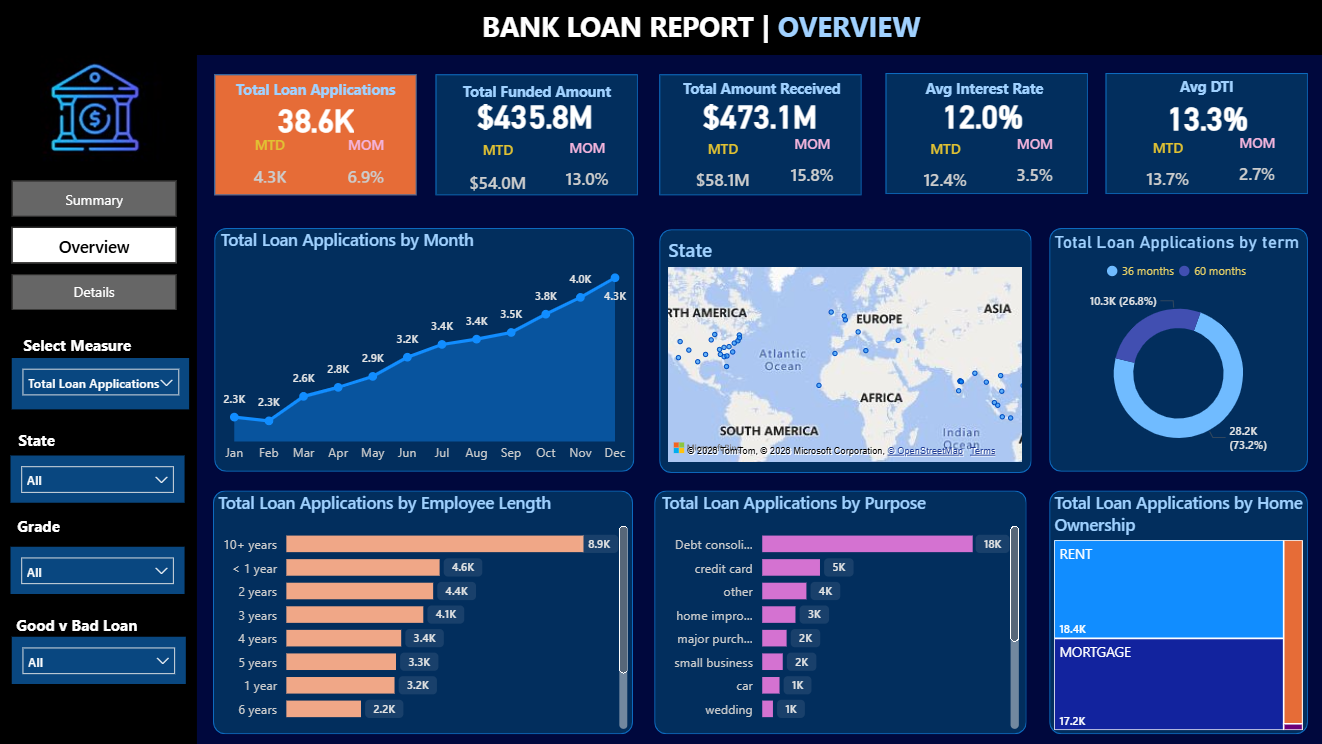

The page's visual inventory and layout, read from the dashboard file:
{"tool":"powerbi","page":{"name":"Overview","canvas":[1280,720],"ordinal":1},"visuals":[{"type":"shape","box":[0,0,1280.3,55],"z":0},{"type":"shape","box":[0,47.1,191.8,673.2],"z":1000},{"type":"textbox","box":[462.1,3.6,447.6,47.1],"z":2000},{"type":"shape","box":[208.7,73.6,195.4,117],"z":3000},{"type":"group","id":"g1","title":"Group 1","box":[208.7,73.6,195.4,117],"z":4000},{"type":"cardVisual","fields":{"Data":["Bank_loan_data.Total Funded Amount"]},"box":[433.3,74.8,170.1,77.2],"z":4000,"group":"g3"},{"type":"cardVisual","fields":{"Data":["Bank_loan_data.Total Amount Received"]},"box":[649.4,75.1,170.1,77.2],"z":4000,"group":"g2"},{"type":"cardVisual","fields":{"Data":["Bank_loan_data.Avg Interest Rate"]},"box":[864.5,75.1,170.1,77.2],"z":4000,"group":"g5"},{"type":"cardVisual","fields":{"Data":["Bank_loan_data.Avg DTI"]},"box":[1082,77.2,170.1,77.2],"z":4000,"group":"g4"},{"type":"cardVisual","fields":{"Data":["Bank_loan_data.Total Loan Applications"]},"box":[224.4,83.3,165.3,70],"z":4000,"group":"g1"},{"type":"textbox","box":[1068.9,71.2,195.4,36.2],"z":5000,"group":"g4"},{"type":"textbox","box":[638.8,72.4,195.4,36.2],"z":5000,"group":"g2"},{"type":"textbox","box":[853.9,72.4,195.4,36.2],"z":5000,"group":"g5"},{"type":"textbox","box":[208.7,73.6,195.4,36.2],"z":5000,"group":"g1"},{"type":"textbox","box":[422.3,75.5,195.4,36.2],"z":5000,"group":"g3"},{"type":"shape","box":[208.7,222,405.4,235.3],"z":5000},{"type":"textbox","box":[7.2,319.7,138.7,37.4],"z":5000,"group":"g9"},{"type":"textbox","box":[9.7,411.4,55.5,30.2],"z":5000,"group":"g6"},{"type":"textbox","box":[7.2,494.6,63.9,35],"z":5000,"group":"g7"},{"type":"textbox","box":[11,590,130.3,31.4],"z":5000,"group":"g8"},{"type":"shape","box":[638.2,73.6,195.4,117],"z":6000},{"type":"cardVisual","title":"MTD","fields":{"Data":["Bank_loan_data.MTD Loan Application"]},"box":[218.4,132.7,88.1,57.9],"z":6000,"group":"g1"},{"type":"cardVisual","title":"MTD","fields":{"Data":["Bank_loan_data.MTD Avg DTI"]},"box":[1071.1,134.7,115.8,57.9],"z":6000,"group":"g4"},{"type":"cardVisual","title":"MTD","fields":{"Data":["Bank_loan_data.MTD Total Amount Received"]},"box":[641,135.9,115.8,57.9],"z":6000,"group":"g2"},{"type":"cardVisual","title":"MTD","fields":{"Data":["Bank_loan_data.MTD Avg Int Rate"]},"box":[856.1,135.9,115.8,57.9],"z":6000,"group":"g5"},{"type":"cardVisual","title":"MTD","fields":{"Data":["Bank_loan_data.MTD Funded Amount"]},"box":[424.9,137,115.8,61.5],"z":6000,"group":"g3"},{"type":"shape","box":[422.3,73.6,195.4,117],"z":7000},{"type":"cardVisual","title":"MOM","fields":{"Data":["Bank_loan_data.MOM Avg DTI"]},"box":[1166.6,130.3,97.7,57.9],"z":7000,"group":"g4"},{"type":"cardVisual","title":"MOM","fields":{"Data":["Bank_loan_data.MOM Total Amount Received"]},"box":[736.5,131.5,97.7,57.9],"z":7000,"group":"g2"},{"type":"cardVisual","title":"MOM","fields":{"Data":["Bank_loan_data.MOM Avg Int Rate"]},"box":[951.6,131.5,97.7,57.9],"z":7000,"group":"g5"},{"type":"cardVisual","title":"MOM","fields":{"Data":["Bank_loan_data.MOM Loan Applications"]},"box":[306.4,132.7,97.7,57.9],"z":7000,"group":"g1"},{"type":"cardVisual","title":"MOM","fields":{"Data":["Bank_loan_data.MOM Total Funded Amount"]},"box":[520,134.6,97.7,57.9],"z":7000,"group":"g3"},{"type":"group","id":"g2","title":"Group 1","box":[638.8,72.4,195.4,121.9],"z":8000},{"type":"group","id":"g3","title":"Group 1","box":[422.3,74.8,195.4,124.3],"z":9000},{"type":"shape","box":[856.6,72.4,195.4,117],"z":10000},{"type":"shape","box":[1068.9,72.4,195.4,117],"z":11000},{"type":"group","id":"g4","title":"Group 1","box":[1068.9,71.2,195.4,121.9],"z":12000},{"type":"group","id":"g5","title":"Group 1","box":[853.9,72.4,195.4,121.9],"z":13000},{"type":"shape","box":[0,47.1,191.8,673.2],"z":14000},{"type":"slicer","fields":{"Values":["Bank_loan_data.address_state"]},"box":[12.1,441.6,167.7,45.8],"z":15000},{"type":"group","id":"g6","title":"Group 1","box":[9.7,411.4,55.5,30.2],"z":16000},{"type":"slicer","fields":{"Values":["Bank_loan_data.grade"]},"box":[12.1,529.6,167.7,45.8],"z":17000},{"type":"group","id":"g7","title":"Group 1","box":[7.2,494.6,63.9,35],"z":18000},{"type":"slicer","fields":{"Values":["Bank_loan_data.Good v Bad Loan"]},"box":[13.3,616.5,167.7,45.8],"z":19000},{"type":"group","id":"g8","title":"Group 1","box":[11,590,130.3,31.4],"z":20000},{"type":"areaChart","fields":{"Y":["Bank_loan_data.Total Loan Applications"],"Category":["Date Table.Month"]},"box":[209.9,222,404.2,235.3],"z":21000},{"type":"slicer","fields":{"Values":["Select Measure.Select Measure"]},"box":[13.3,347.5,171.3,49.5],"z":22000},{"type":"group","id":"g9","title":"Group 1","box":[7.2,319.7,138.7,37.4],"z":23000},{"type":"shape","box":[638.2,223.2,359.5,235.3],"z":24000},{"type":"map","title":"State","fields":{"Category":["Bank_loan_data.address_state"]},"box":[641.8,230.4,351.1,223.2],"z":25000},{"type":"shape","box":[1014.6,222,249.7,235.3],"z":26000},{"type":"donutChart","fields":{"Y":["Bank_loan_data.Total Loan Applications"],"Category":["Bank_loan_data.term"]},"box":[1014.6,225.6,249.7,226.8],"z":27000},{"type":"shape","box":[207.5,475.3,405.4,235.3],"z":28000},{"type":"barChart","fields":{"Y":["Bank_loan_data.Total Loan Applications"],"Category":["Bank_loan_data.emp_length"]},"box":[207.5,475.3,405.4,235.3],"z":29000},{"type":"shape","box":[633.4,475.3,359.5,235.3],"z":30000},{"type":"barChart","fields":{"Y":["Bank_loan_data.Total Loan Applications"],"Category":["Bank_loan_data.purpose"]},"box":[635.8,475.3,354.7,235.3],"z":31000},{"type":"shape","box":[1014.6,475.3,249.7,235.3],"z":32000},{"type":"treemap","fields":{"Values":["Bank_loan_data.Total Loan Applications"],"Group":["Bank_loan_data.home_ownership"]},"box":[1014.6,475.3,249.7,236.5],"z":33000},{"type":"pageNavigator","box":[13.3,176.1,159.3,126.7],"z":34000},{"type":"image","box":[22.9,55.5,156.8,102.5],"z":35000}]}

Visuals, with their boxes in screenshot pixels (x1, y1, x2, y2), scaled from the page's 1280x720 canvas onto the 1322x744 screenshot:
shape: x1=0, y1=0, x2=1321, y2=57
shape: x1=0, y1=49, x2=198, y2=743
textbox: x1=477, y1=4, x2=940, y2=52
shape: x1=216, y1=76, x2=417, y2=197
"Group 1" group: x1=216, y1=76, x2=417, y2=197
cardVisual - Bank_loan_data.Total Funded Amount: x1=448, y1=77, x2=623, y2=157
cardVisual - Bank_loan_data.Total Amount Received: x1=671, y1=78, x2=846, y2=157
cardVisual - Bank_loan_data.Avg Interest Rate: x1=893, y1=78, x2=1069, y2=157
cardVisual - Bank_loan_data.Avg DTI: x1=1118, y1=80, x2=1293, y2=160
cardVisual - Bank_loan_data.Total Loan Applications: x1=232, y1=86, x2=402, y2=158
textbox: x1=1104, y1=74, x2=1306, y2=111
textbox: x1=660, y1=75, x2=862, y2=112
textbox: x1=882, y1=75, x2=1084, y2=112
textbox: x1=216, y1=76, x2=417, y2=113
textbox: x1=436, y1=78, x2=638, y2=115
shape: x1=216, y1=229, x2=634, y2=473
textbox: x1=7, y1=330, x2=151, y2=369
textbox: x1=10, y1=425, x2=67, y2=456
textbox: x1=7, y1=511, x2=73, y2=547
textbox: x1=11, y1=610, x2=146, y2=642
shape: x1=659, y1=76, x2=861, y2=197
"MTD" cardVisual: x1=226, y1=137, x2=317, y2=197
"MTD" cardVisual: x1=1106, y1=139, x2=1226, y2=199
"MTD" cardVisual: x1=662, y1=140, x2=782, y2=200
"MTD" cardVisual: x1=884, y1=140, x2=1004, y2=200
"MTD" cardVisual: x1=439, y1=142, x2=558, y2=205
shape: x1=436, y1=76, x2=638, y2=197
"MOM" cardVisual: x1=1205, y1=135, x2=1306, y2=194
"MOM" cardVisual: x1=761, y1=136, x2=862, y2=196
"MOM" cardVisual: x1=983, y1=136, x2=1084, y2=196
"MOM" cardVisual: x1=316, y1=137, x2=417, y2=197
"MOM" cardVisual: x1=537, y1=139, x2=638, y2=199
"Group 1" group: x1=660, y1=75, x2=862, y2=201
"Group 1" group: x1=436, y1=77, x2=638, y2=206
shape: x1=885, y1=75, x2=1087, y2=196
shape: x1=1104, y1=75, x2=1306, y2=196
"Group 1" group: x1=1104, y1=74, x2=1306, y2=200
"Group 1" group: x1=882, y1=75, x2=1084, y2=201
shape: x1=0, y1=49, x2=198, y2=743
slicer - Bank_loan_data.address_state: x1=12, y1=456, x2=186, y2=504
"Group 1" group: x1=10, y1=425, x2=67, y2=456
slicer - Bank_loan_data.grade: x1=12, y1=547, x2=186, y2=595
"Group 1" group: x1=7, y1=511, x2=73, y2=547
slicer - Bank_loan_data.Good v Bad Loan: x1=14, y1=637, x2=187, y2=684
"Group 1" group: x1=11, y1=610, x2=146, y2=642
areaChart - Bank_loan_data.Total Loan Applications x Date Table.Month: x1=217, y1=229, x2=634, y2=473
slicer - Select Measure.Select Measure: x1=14, y1=359, x2=191, y2=410
"Group 1" group: x1=7, y1=330, x2=151, y2=369
shape: x1=659, y1=231, x2=1030, y2=474
"State" map: x1=663, y1=238, x2=1025, y2=469
shape: x1=1048, y1=229, x2=1306, y2=473
donutChart - Bank_loan_data.Total Loan Applications x Bank_loan_data.term: x1=1048, y1=233, x2=1306, y2=467
shape: x1=214, y1=491, x2=633, y2=734
barChart - Bank_loan_data.Total Loan Applications x Bank_loan_data.emp_length: x1=214, y1=491, x2=633, y2=734
shape: x1=654, y1=491, x2=1025, y2=734
barChart - Bank_loan_data.Total Loan Applications x Bank_loan_data.purpose: x1=657, y1=491, x2=1023, y2=734
shape: x1=1048, y1=491, x2=1306, y2=734
treemap - Bank_loan_data.Total Loan Applications x Bank_loan_data.home_ownership: x1=1048, y1=491, x2=1306, y2=736
pageNavigator: x1=14, y1=182, x2=178, y2=313
image: x1=24, y1=57, x2=186, y2=163
